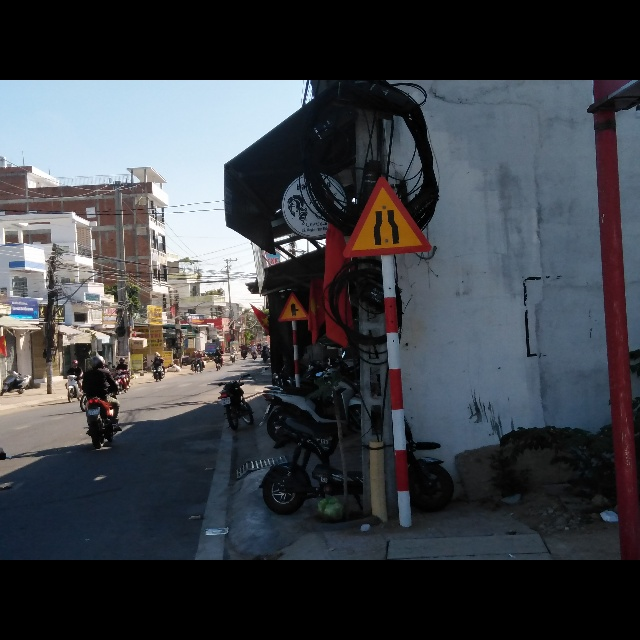Giao nhau với đường không ưu tiên: (274, 293, 310, 324)
Đường bị hẹp cả hai bên: (344, 174, 433, 256)
